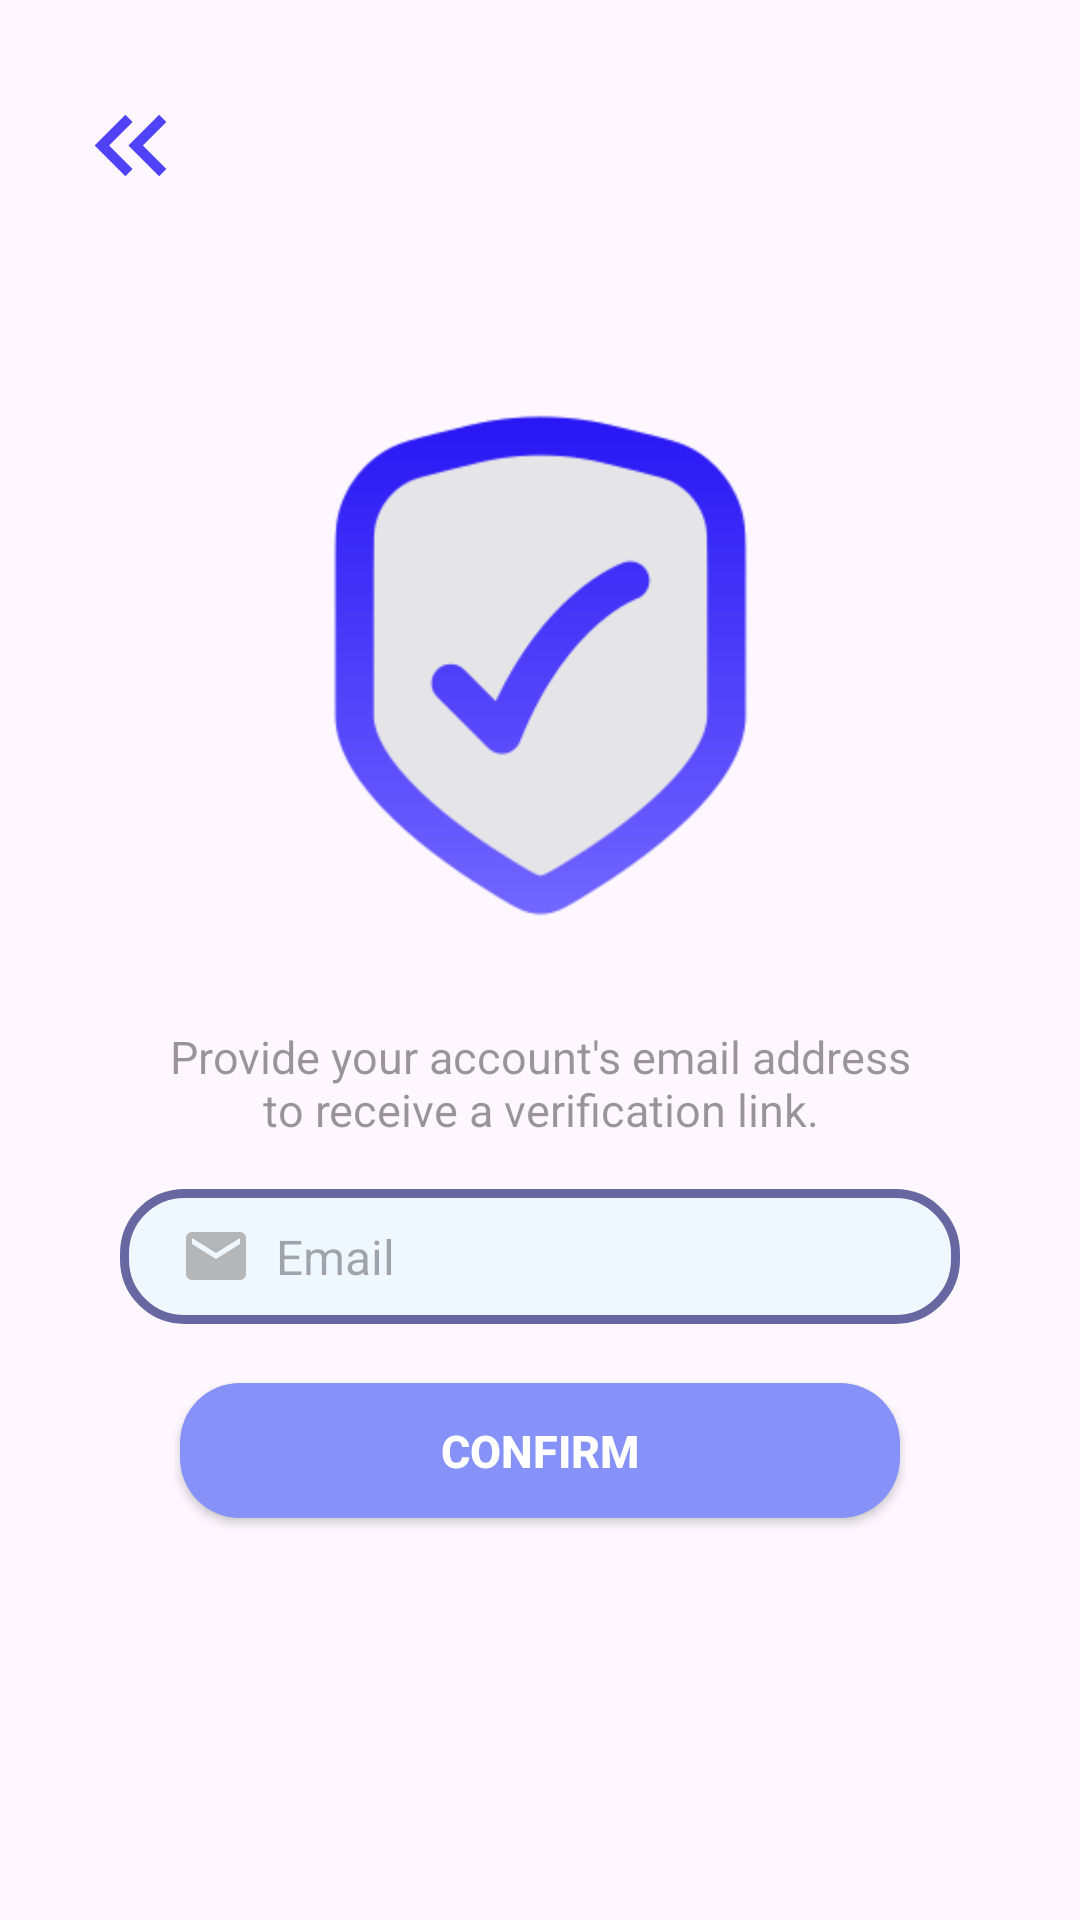

Named icons in this screenshot (1080px×1920px) and their bounding boxes, (x1, y1, x2, y2):
return left: (94, 115, 166, 176)
